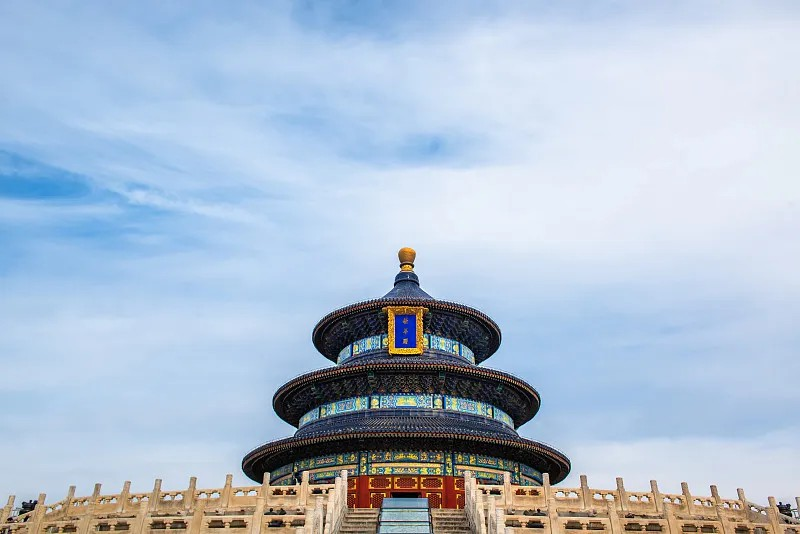Heaven: (242, 247, 572, 511)
